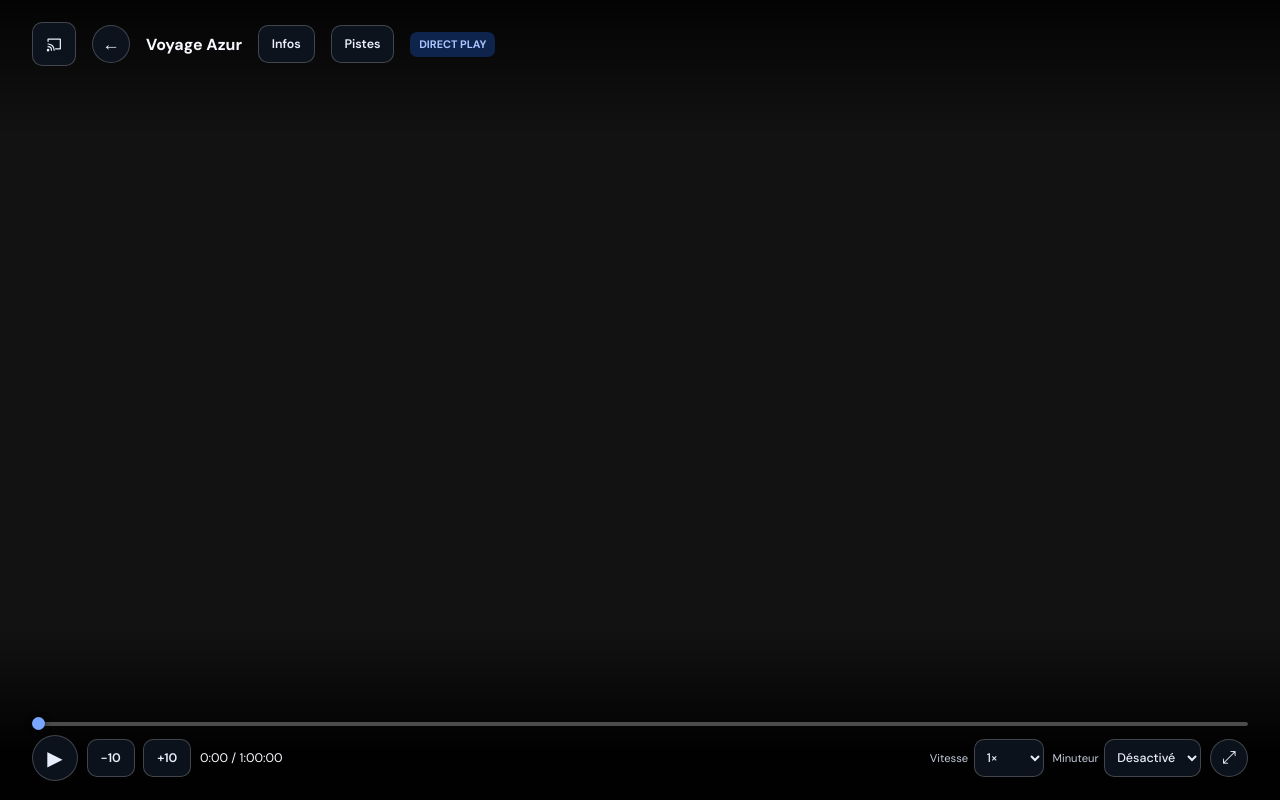
Scenario: le lecteur quand VLC décode › demande le plein écran à la coque, et non au document
Click the button named "Plein écran" at (1229, 758), box [1210,739,1248,777]
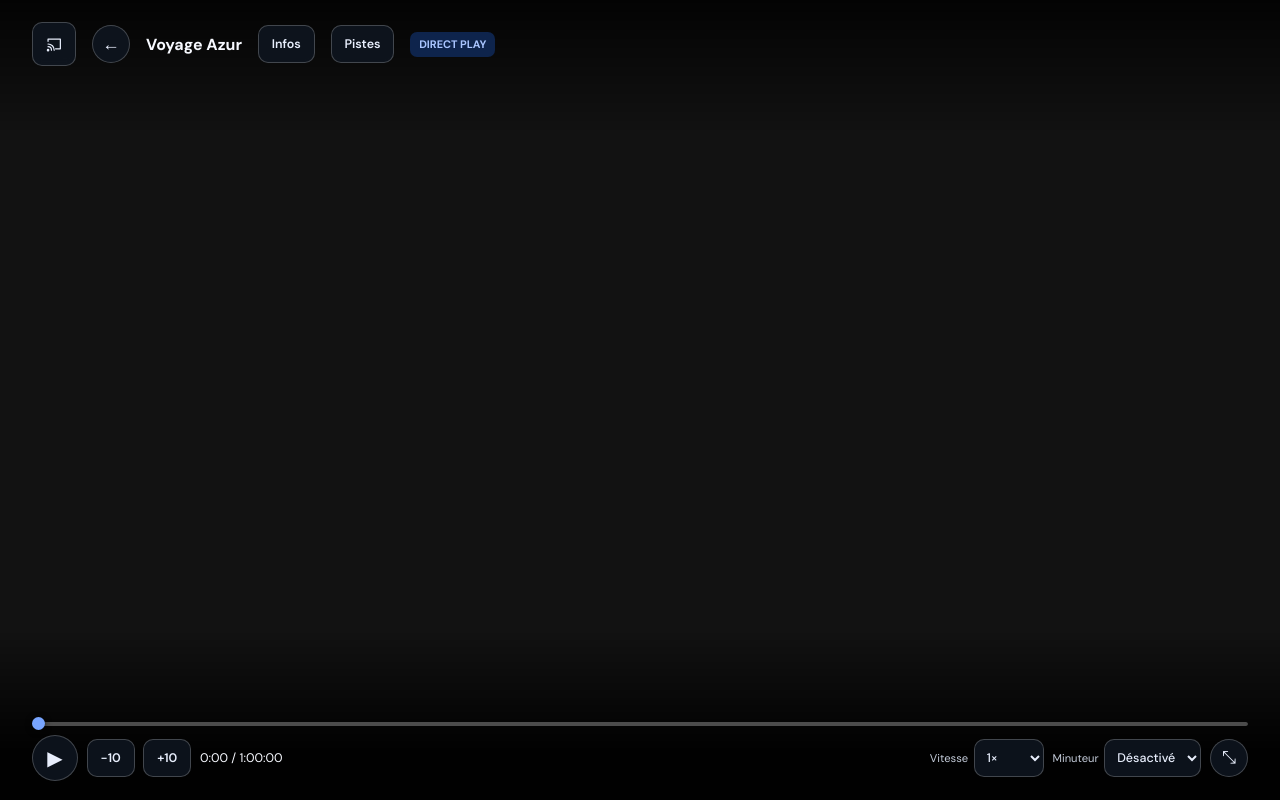
Expected: the button named "Quitter le plein écran" is shown, [1210,739,1248,777]
